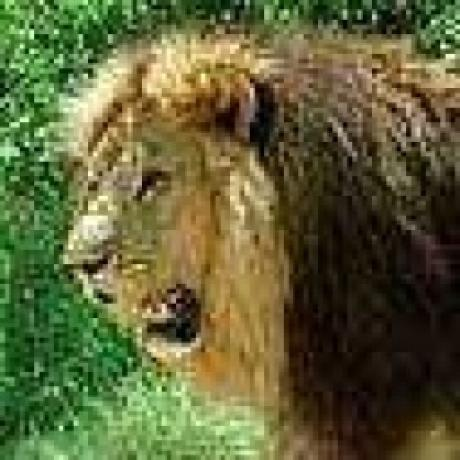Lion: (57, 25, 460, 460)
